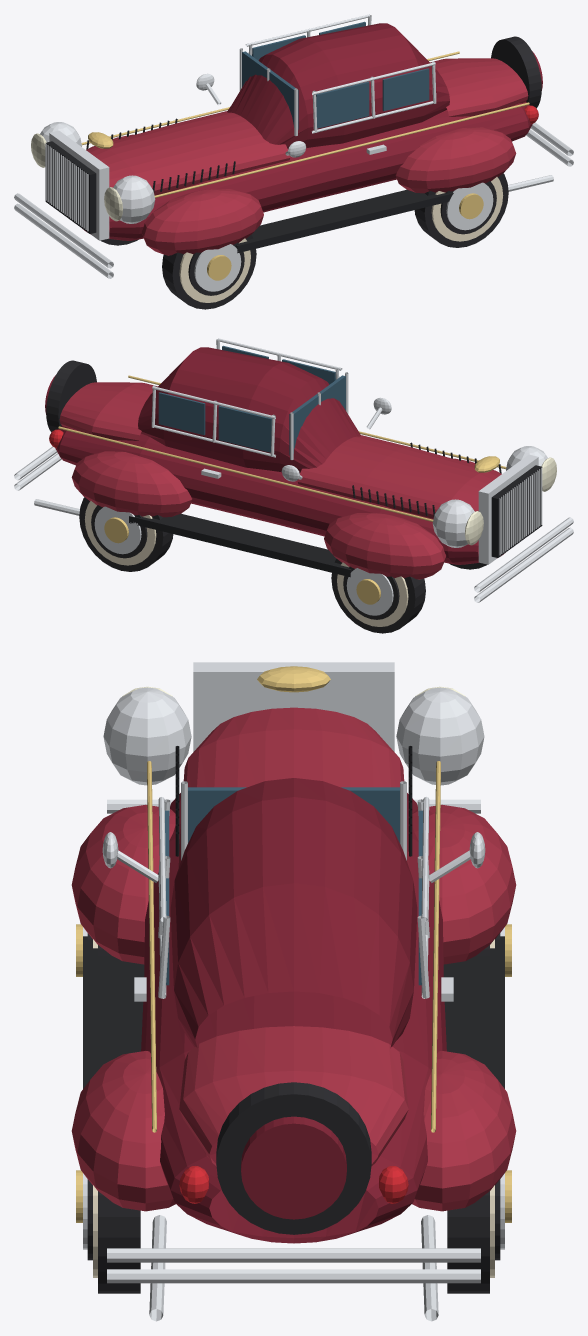
Rendered from Luxury_Coupe_LAB_Embedded.gltf.
3 renders of one model, top to bottom at view 1: azimuth 30°, elevation 25°; view 2: azimuth 150°, elevation 25°; view 3: azimuth 270°, elevation 25°, orthographic. The views are drawn at different scales.
Visible parts, largest first — view 1: burgundy, wine, chrome, black, rubber, glass, gold, ivory, lamp; view 2: burgundy, wine, chrome, black, rubber, glass, gold, ivory, lamp; view 3: burgundy, wine, chrome, rubber, black, gold, glass, red, ivory.
Part boxes in pixels (box(x1,y1,x2,y2)): burgundy: box(84, 23, 542, 240); wine: box(86, 58, 528, 255); chrome: box(14, 14, 573, 291); black: box(45, 118, 453, 253); rubber: box(100, 36, 541, 309); glass: box(242, 21, 429, 129); gold: box(81, 51, 529, 280); ivory: box(179, 177, 503, 302); lamp: box(31, 133, 122, 221); burgundy: box(45, 347, 503, 564); wine: box(59, 382, 501, 579); chrome: box(14, 338, 573, 615); black: box(129, 442, 542, 577); rubber: box(46, 360, 487, 633); glass: box(158, 345, 345, 455); gold: box(58, 375, 506, 604); ivory: box(84, 501, 408, 626); lamp: box(465, 457, 556, 545); burgundy: box(141, 778, 446, 1243); wine: box(71, 707, 516, 1211); chrome: box(83, 662, 504, 1321); rubber: box(87, 933, 500, 1293); black: box(83, 746, 504, 1088); gold: box(76, 666, 511, 1222); glass: box(165, 787, 422, 985); red: box(179, 1166, 408, 1203); ivory: box(93, 939, 494, 1277).
Size of the model in its own units: 6.14 by 2.42 by 2.52.
